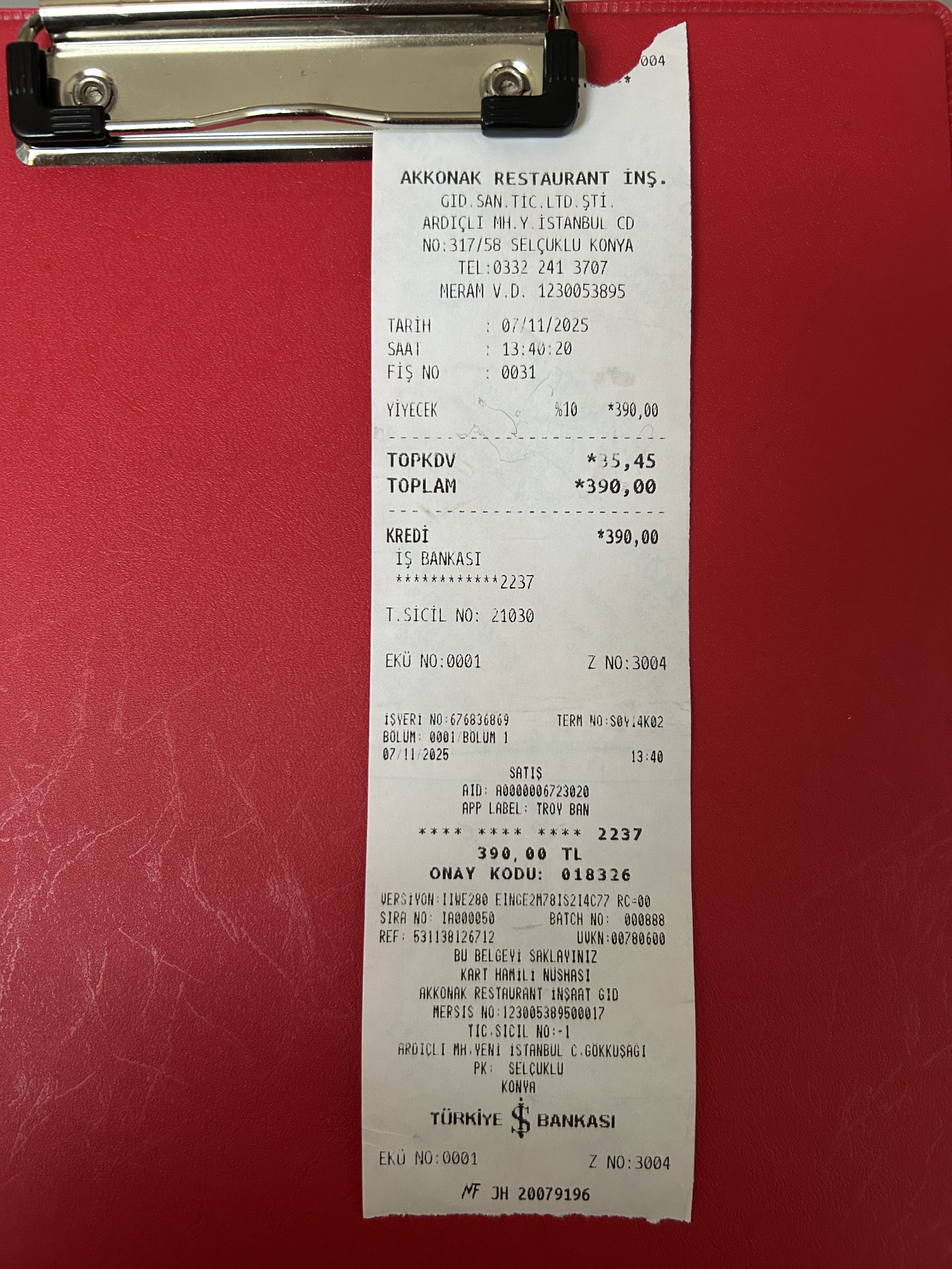date: (583, 473, 661, 503)
price: (498, 314, 594, 338)
workplace: (389, 163, 679, 255)
